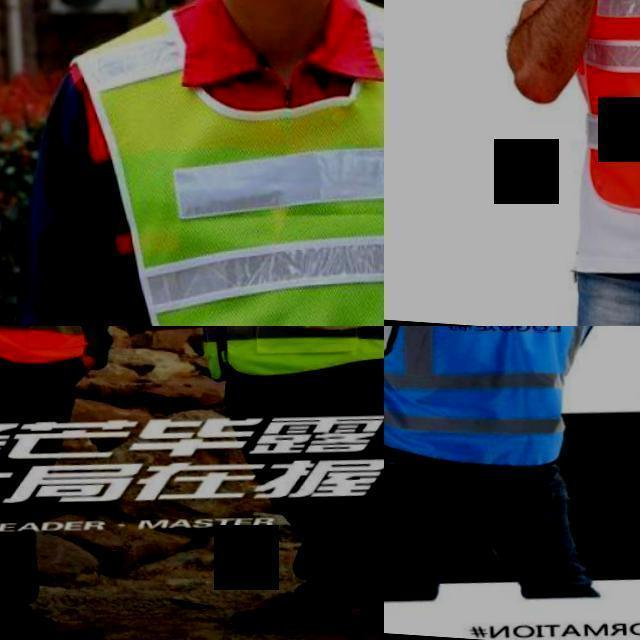vest: (102, 0, 384, 326), (384, 326, 586, 475), (552, 0, 640, 229), (205, 326, 384, 391)
